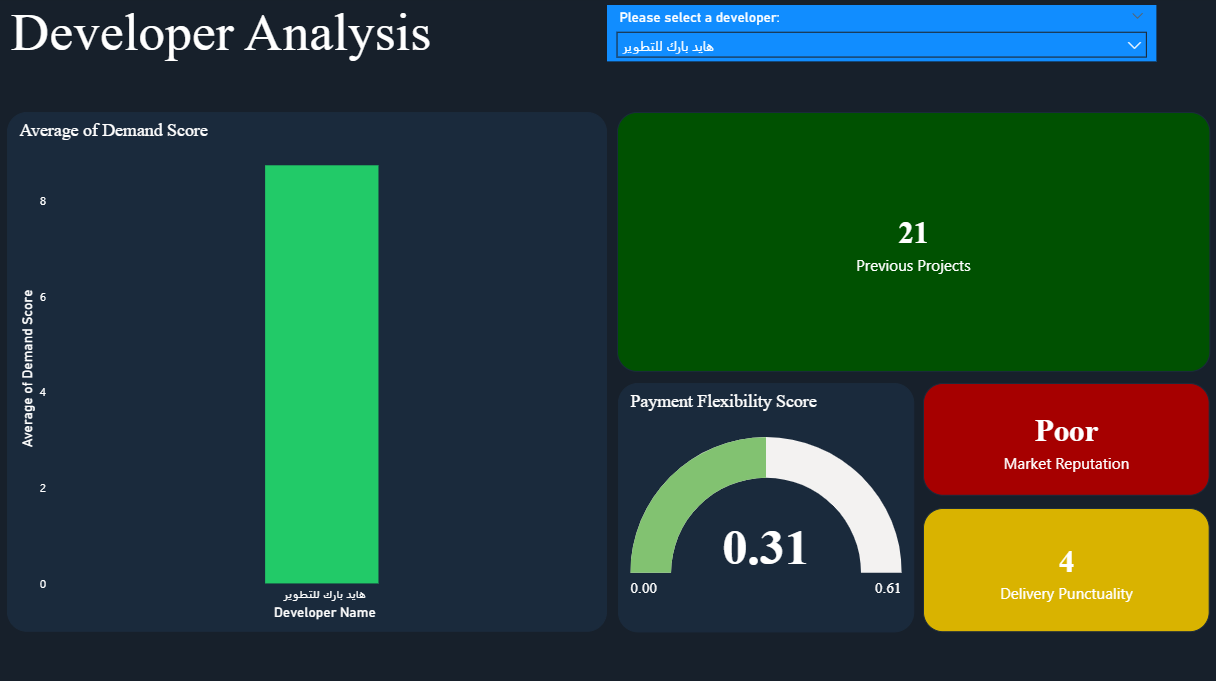

Layout of this report page (visuals, bound fields, positions):
{"tool":"powerbi","page":{"name":"Developer Analysis","canvas":[1280,720],"ordinal":1},"visuals":[{"type":"slicer","fields":{"Values":["real_estate_gold_dim_developer.Developer_Name"]},"box":[640.5,9,574.6,59],"z":0},{"type":"textbox","box":[12,0,457.6,76.9],"z":1000},{"type":"columnChart","title":"Average of Demand Score","fields":{"Category":["real_estate_gold_dim_developer.Developer_Name"],"Y":["Avg(real_estate_gold_fact_sales.Demand_Score)"]},"box":[12.5,121.6,627.5,544.4],"z":2000},{"type":"card","title":"Previous Projects","fields":{"Values":["Sum(real_estate_gold_dim_developer.Previous_Projects)"]},"box":[651,121.4,620.6,272.1],"z":3000},{"type":"gauge","title":"Payment Flexibility Score","fields":{"Y":["Avg(real_estate_gold_fact_sales.Payment_Flexibility_Score)"]},"box":[651.6,405.2,310,261.3],"z":4000},{"type":"card","fields":{"Values":["Min(real_estate_gold_dim_developer.Market_Reputation)"]},"box":[971.1,405.2,300.4,118.5],"z":5000},{"type":"card","fields":{"Values":["Min(real_estate_gold_dim_developer.Delivery_Punctuality)"]},"box":[971.1,536.3,300.4,130.1],"z":6000}]}

Visuals, with their boxes in screenshot pixels (x1, y1, x2, y2), scaled from the page's 1280x720 canvas onto the 1216x681 screenshot:
slicer - real_estate_gold_dim_developer.Developer_Name: box=[608, 9, 1154, 64]
textbox: box=[11, 0, 446, 73]
"Average of Demand Score" columnChart: box=[12, 115, 608, 630]
"Previous Projects" card: box=[618, 115, 1208, 372]
"Payment Flexibility Score" gauge: box=[619, 383, 914, 630]
card - Min(real_estate_gold_dim_developer.Market_Reputation): box=[923, 383, 1208, 495]
card - Min(real_estate_gold_dim_developer.Delivery_Punctuality): box=[923, 507, 1208, 630]
